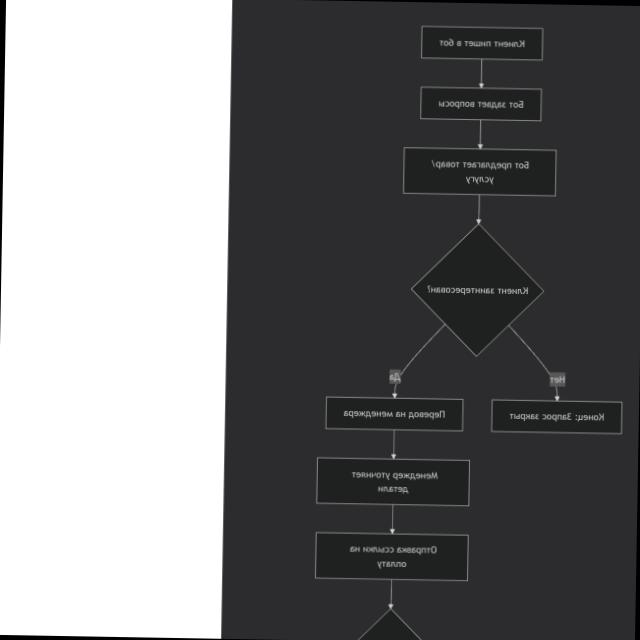arrow: (506, 324, 562, 401), (390, 322, 446, 398), (474, 194, 482, 224), (390, 430, 398, 460), (476, 120, 484, 149), (386, 580, 394, 609), (478, 60, 486, 88), (390, 504, 396, 534)
diamond: (408, 222, 545, 360)
rectangle: (314, 531, 469, 582), (315, 456, 470, 506), (402, 148, 556, 196), (324, 396, 464, 431), (490, 398, 622, 434), (420, 25, 543, 61), (420, 86, 541, 122)
text_region: (550, 374, 564, 384), (389, 372, 400, 382)
